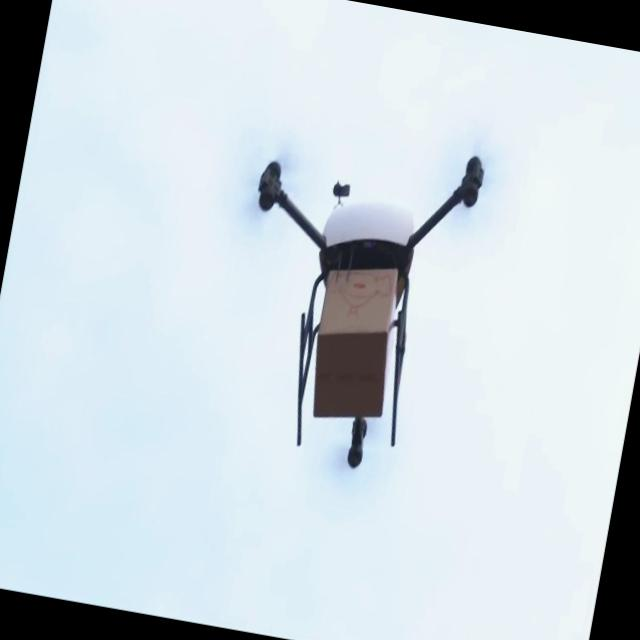drone: (212, 117, 490, 484)
